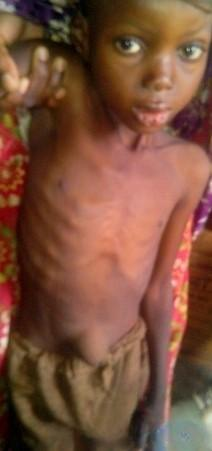Stunting: (62, 0, 212, 150)
